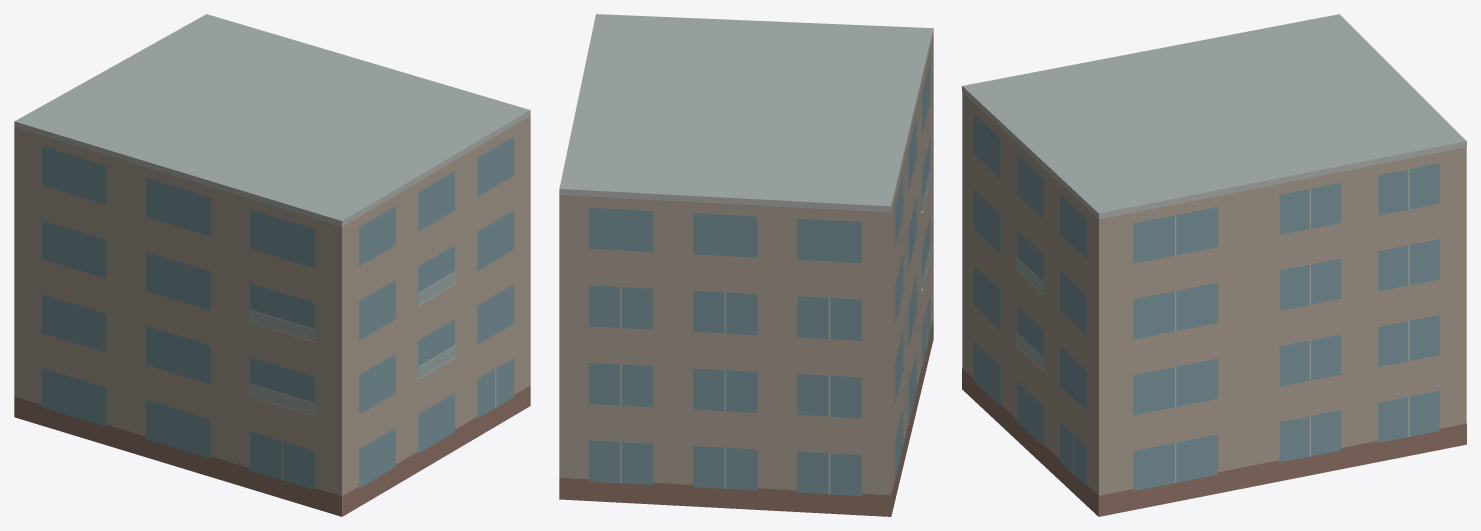
File: survey-upis-32732793.glb
The picture shows the model from 3 angles, left to right: view 1: azimuth 30°, elevation 25°; view 2: azimuth 150°, elevation 25°; view 3: azimuth 270°, elevation 25°; orthographic projection. The views are drawn at different scales.
Parts seen in each view (by area): view 1: survey-upis-32732793.tmp; view 2: survey-upis-32732793.tmp; view 3: survey-upis-32732793.tmp.
Part boxes in pixels (x1,y1,x2,y2): survey-upis-32732793.tmp: (14,14,530,516); survey-upis-32732793.tmp: (559,14,933,516); survey-upis-32732793.tmp: (962,14,1466,516).
Size of the model in its own units: 17.64 by 12.5 by 18.86.
